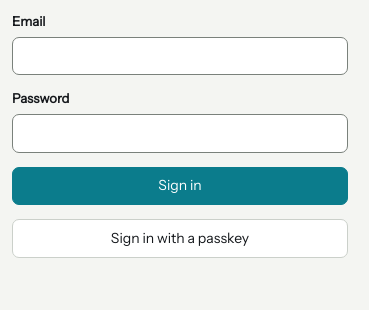
Test case: shows a generic error and never echoes the password
The image size is (369, 310).
Step 1. Type "a@corp.test" into the field with test id "login-email" → {"x": 180, "y": 56}, box [12,37,348,75]
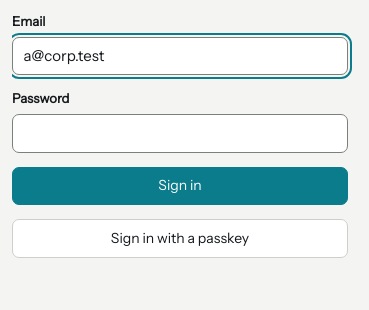
Step 2. Type "hunter2-secret" into the password field with test id "login-password" → {"x": 180, "y": 133}, box [12,114,348,152]
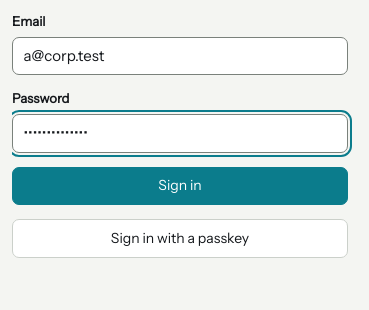
Step 3. Click the button with test id "login-submit" → {"x": 180, "y": 186}, box [12,166,348,205]
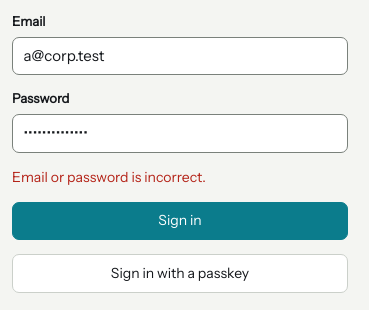
Check: the message reads "Email or password is incorrect.", box [12,168,206,186]
